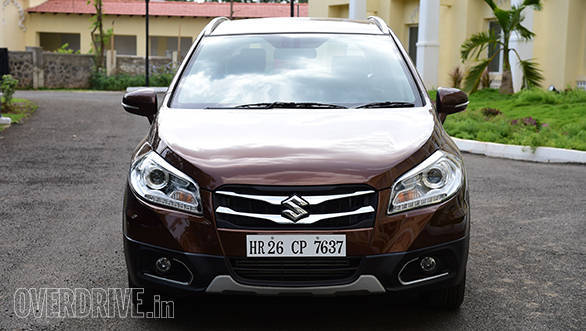number_plate: (244, 232, 348, 260)
